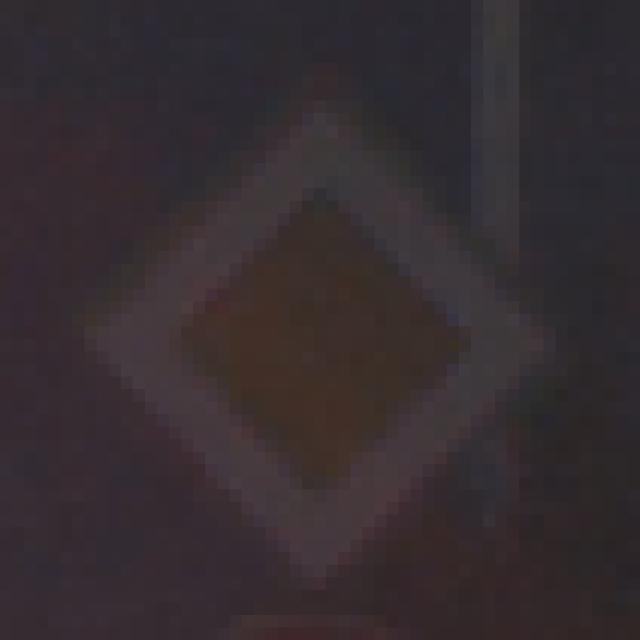Main Road: (62, 77, 581, 579)
